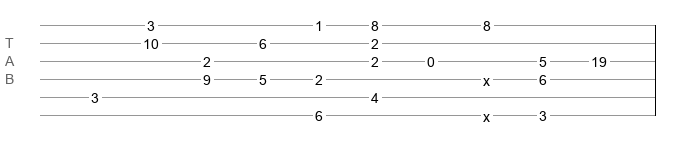0: (427, 54, 435, 64)
1: (315, 18, 323, 28)
10: (143, 36, 159, 46)
19: (591, 54, 607, 64)
2: (203, 54, 211, 64), (315, 72, 323, 82), (371, 54, 379, 64), (371, 36, 379, 46)
3: (91, 90, 99, 100), (147, 18, 155, 28), (539, 108, 547, 118)
4: (371, 90, 379, 100)
5: (259, 72, 267, 82), (539, 54, 547, 64)
6: (259, 36, 267, 46), (315, 108, 323, 118), (539, 72, 547, 82)
8: (371, 18, 379, 28), (483, 18, 491, 28)
9: (203, 72, 211, 82)
x: (483, 73, 490, 81), (483, 109, 490, 117)
